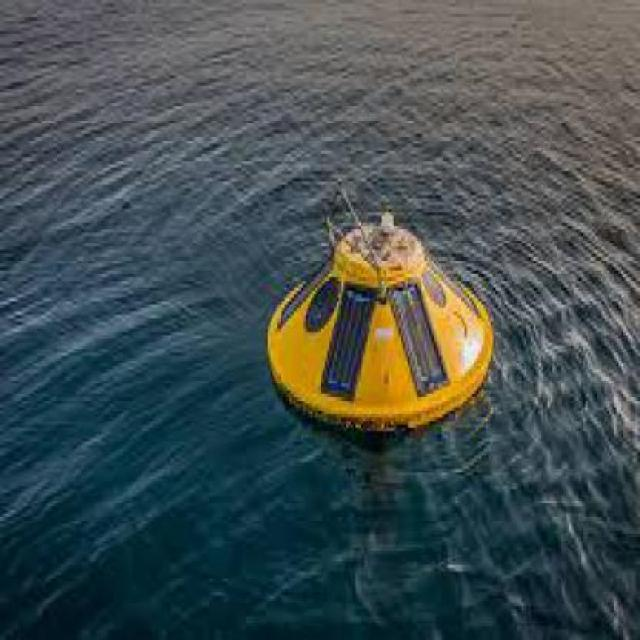buoy: (257, 179, 499, 446)
